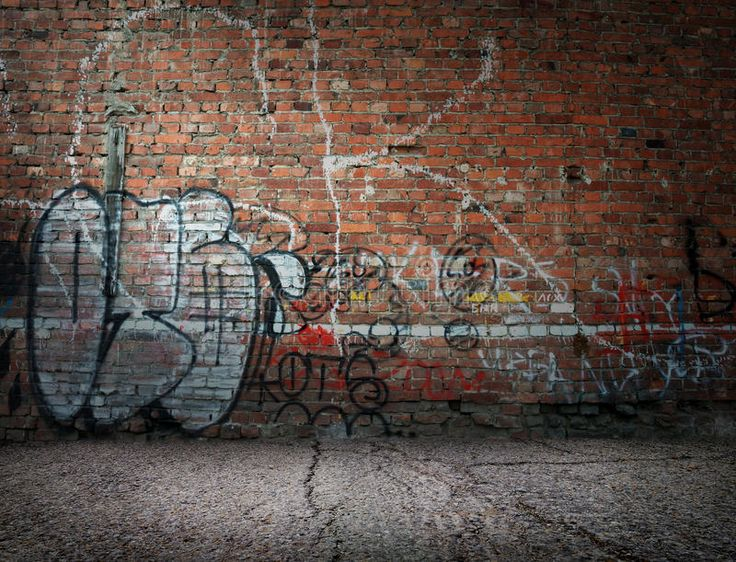Wall: (288, 17, 725, 399), (13, 12, 688, 207)
